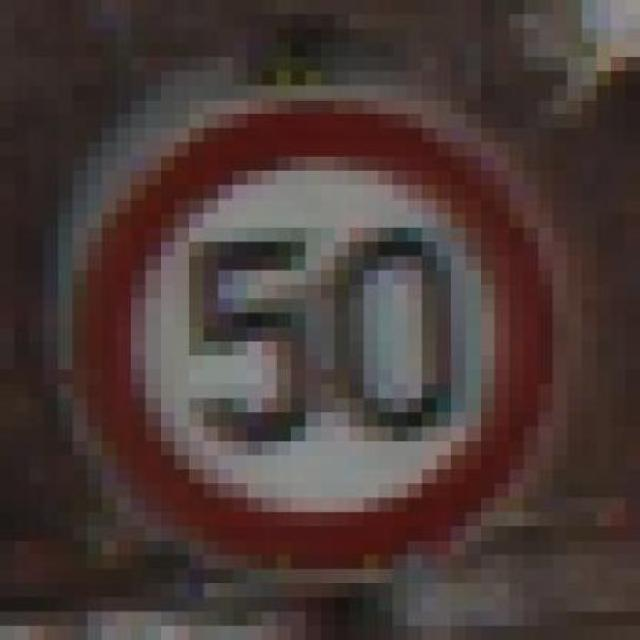50 mph speed limit: (71, 86, 580, 599)
